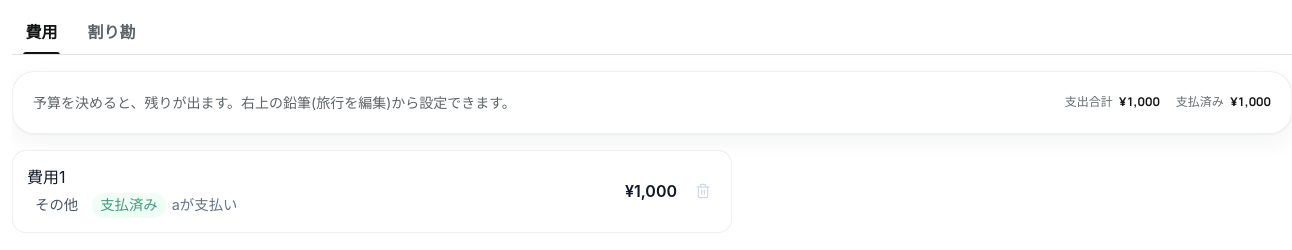
費用の一覧: 支払った人と割り勘 › 参加者が1人以下なら、割り勘の計算は出さず、参加者の入れ方を知らせる
Click the tab "割り勘" at (111, 33), box [74, 12, 149, 54]
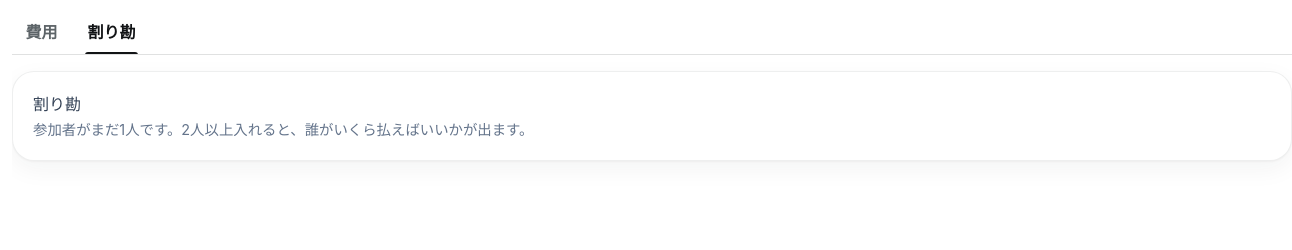
Result: the element labelled "割り勘" shows "参加者がまだ1人です" at [33, 121, 534, 138]
